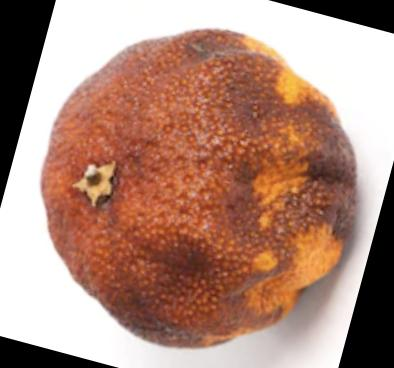Orange Rotten: (26, 10, 363, 368)
